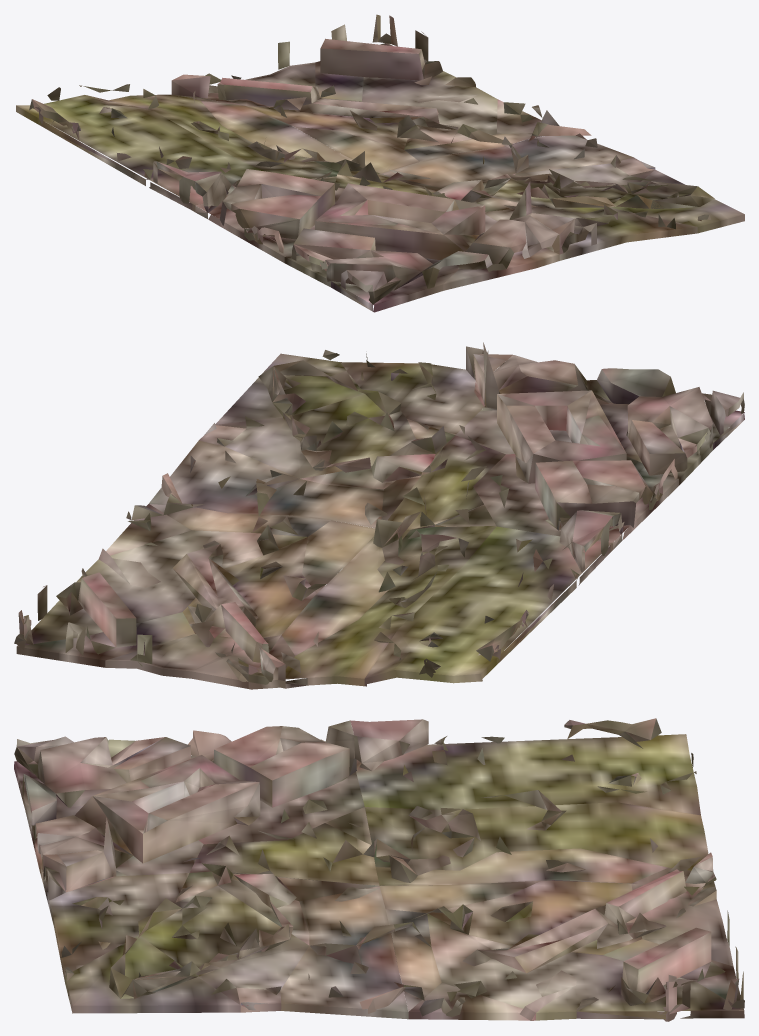
3 views of the same model, one above another, from view 1: azimuth 30°, elevation 25°; view 2: azimuth 150°, elevation 25°; view 3: azimuth 270°, elevation 25° (orthographic). The views are drawn at different scales.
Parts seen in each view (by area): view 1: Mesh_0; view 2: Mesh_0; view 3: Mesh_0.
Boxes of the visible parts, bbox=[...] form: Mesh_0: bbox=[16, 14, 744, 312]; Mesh_0: bbox=[14, 342, 744, 689]; Mesh_0: bbox=[14, 718, 744, 1021].
Bounding box in the file's own units: 535 × 124 × 659.
1 material, 1 textured.
